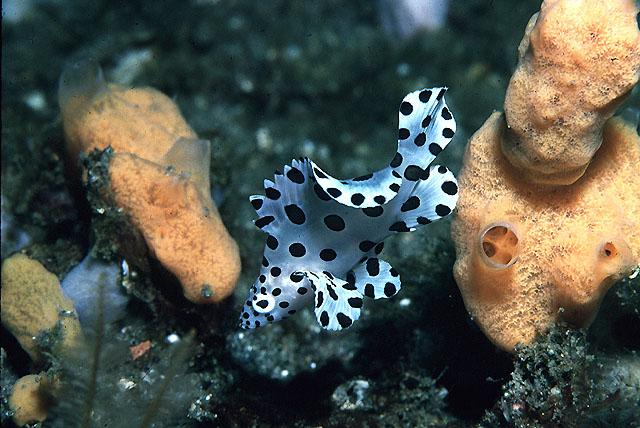Mulut: (222, 294, 276, 350)
Sirip Anal: (398, 156, 464, 240)
Sirip Dada: (299, 259, 365, 339)
Sirip Ekor: (392, 75, 462, 156)
Sirip Perut: (349, 255, 407, 309)
Sirip Punggung: (240, 146, 398, 242)
